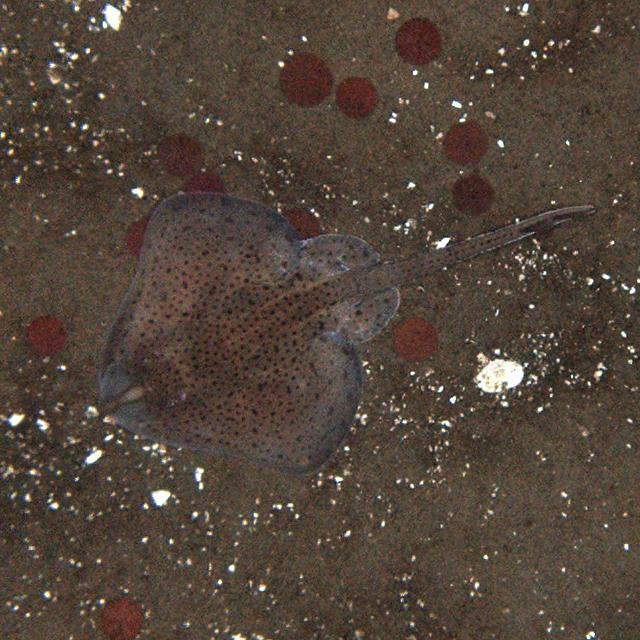skate: (94, 181, 602, 470)
